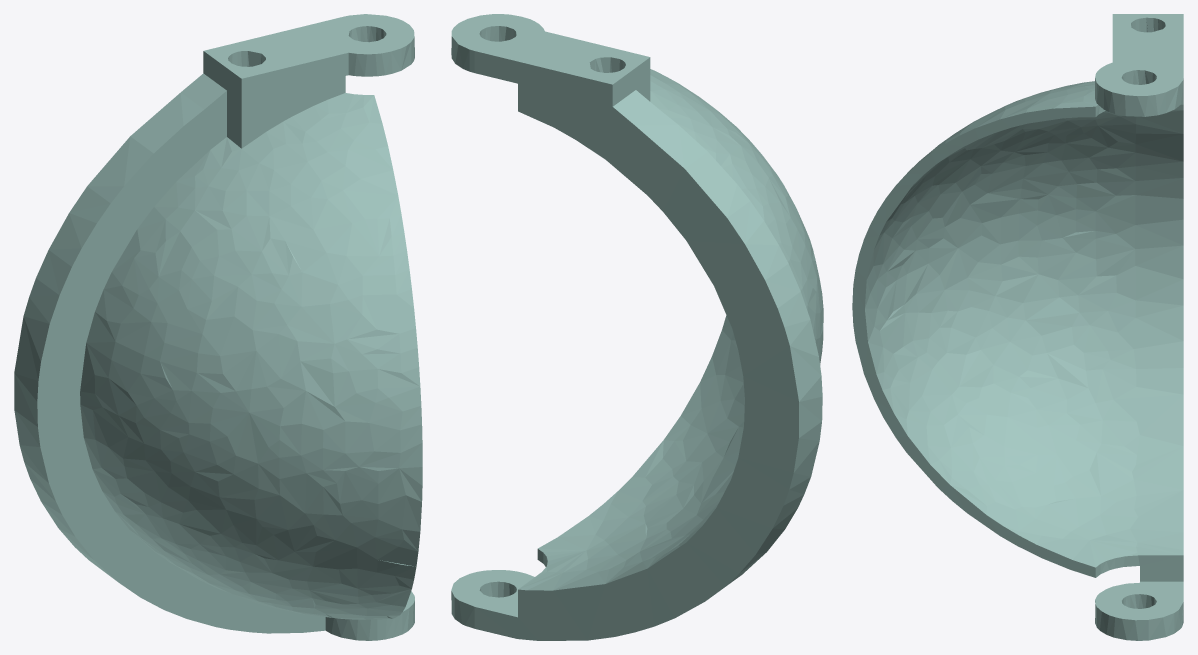
Rendered from i02_head_right_bottom_eyelid_visual.obj.full.glb.
3 renders of one model, left to right at view 1: azimuth 30°, elevation 25°; view 2: azimuth 150°, elevation 25°; view 3: azimuth 270°, elevation 25°, orthographic. The views are drawn at different scales.
Size of the model in its own units: 0.2114 by 0.3195 by 0.1761.
